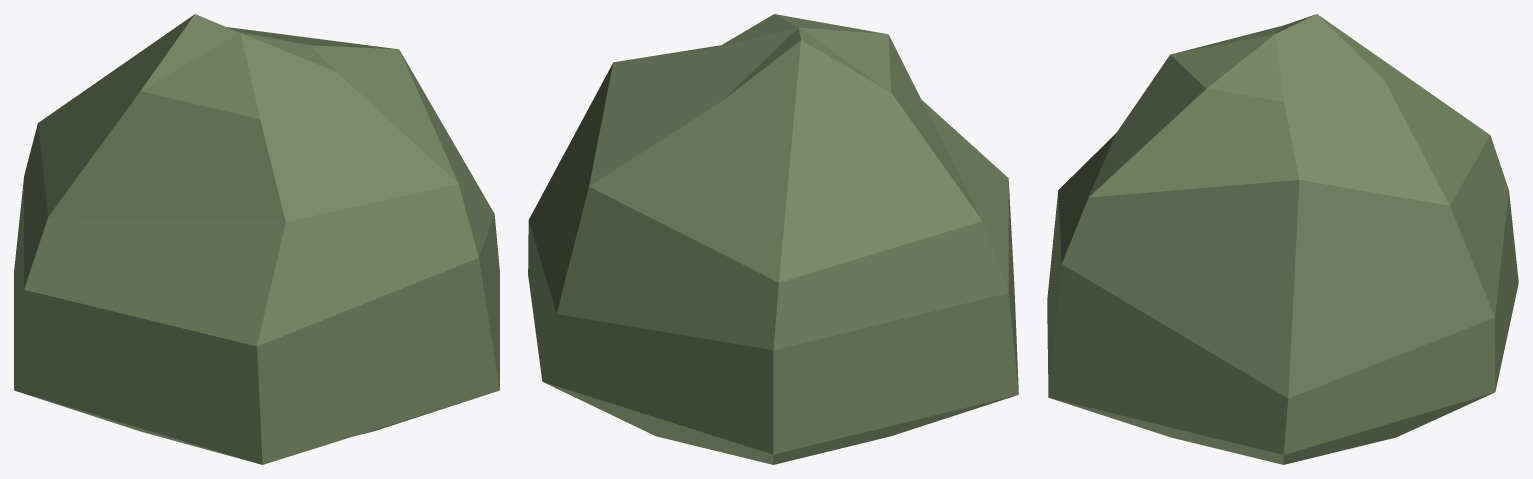
Rendered from bush.fbx.
3 views of the same model, side by side, from view 1: azimuth 30°, elevation 25°; view 2: azimuth 150°, elevation 25°; view 3: azimuth 270°, elevation 25° (orthographic). The views are drawn at different scales.
Visible parts, largest first — view 1: pSphere1; view 2: pSphere1; view 3: pSphere1.
Boxes of the visible parts, box(x1,y1,x2,y2) form: pSphere1: box(14, 14, 499, 464); pSphere1: box(528, 14, 1018, 464); pSphere1: box(1047, 14, 1518, 464).
Size of the model in its own units: 2.8 by 2.16 by 2.44.
